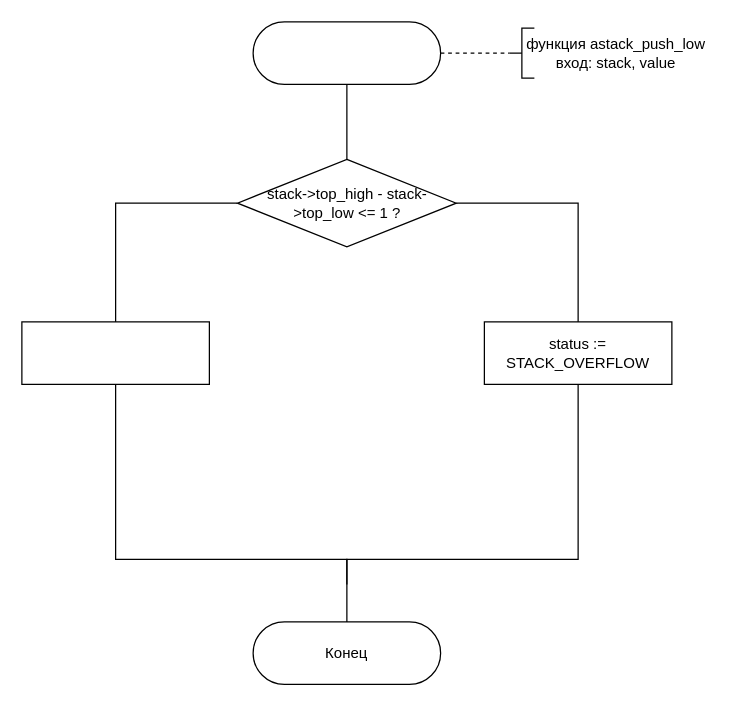
The diagram is 738 pixels wide and 706 high, and some of its shapes have lost their labels. The shapes that lost their labels are listed below. From the top down, each one's centre as x and y in pixels, then its label:
At (x=346, y=52): "Начало".
At (x=115, y=352): "*(++stack->top_low) := value".
